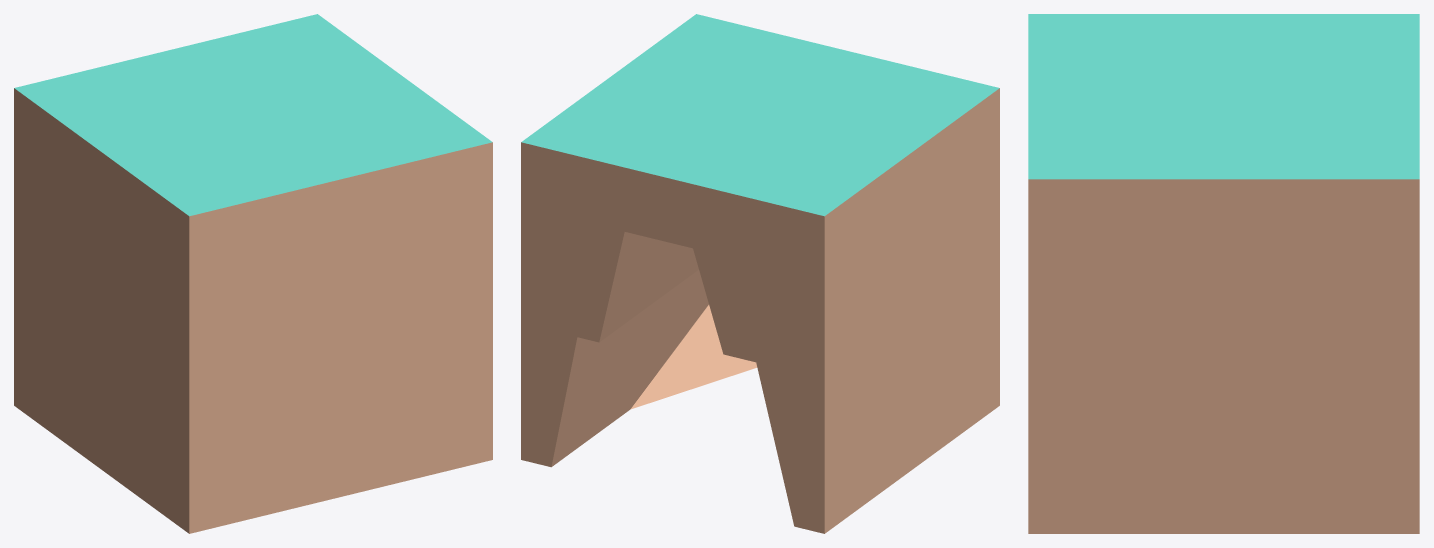
The model's file is cliff_blockCave_rock.glb.
3 renders of one model, left to right at view 1: azimuth 30°, elevation 25°; view 2: azimuth 150°, elevation 25°; view 3: azimuth 270°, elevation 25°, orthographic. The views are drawn at different scales.
Visible parts, largest first — view 1: cliff_blockCave_rock; view 2: cliff_blockCave_rock; view 3: cliff_blockCave_rock.
Boxes of the visible parts, <box> form: cliff_blockCave_rock: <box>14,14,492,533</box>; cliff_blockCave_rock: <box>521,14,999,533</box>; cliff_blockCave_rock: <box>1028,14,1419,533</box>.
Size of the model in its own units: 1 by 1 by 1.
